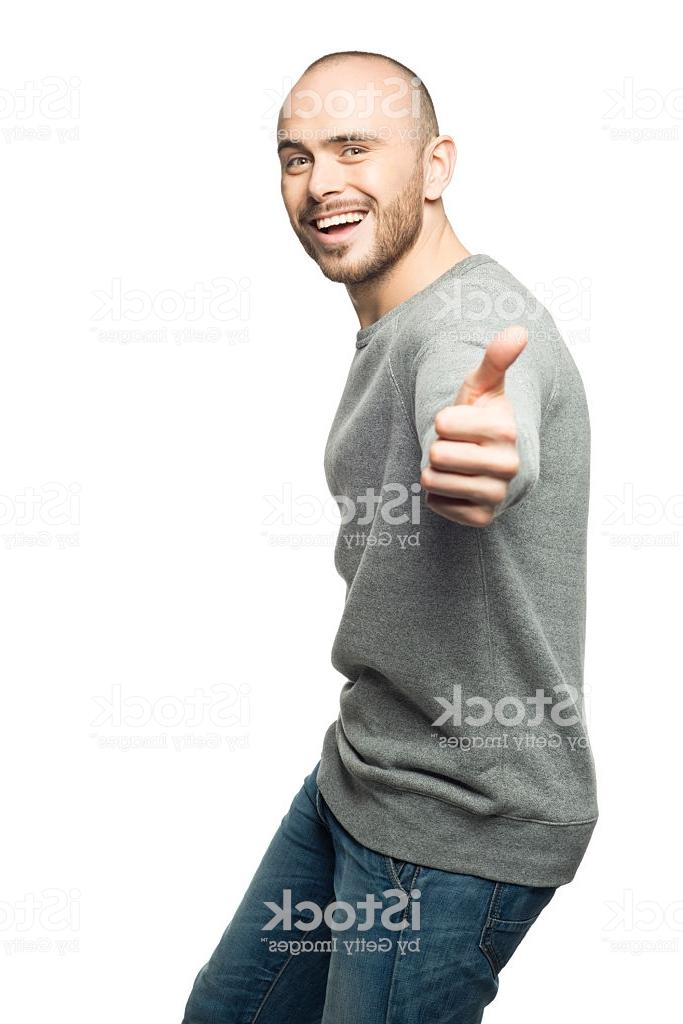thumbsup: (416, 323, 533, 530)
